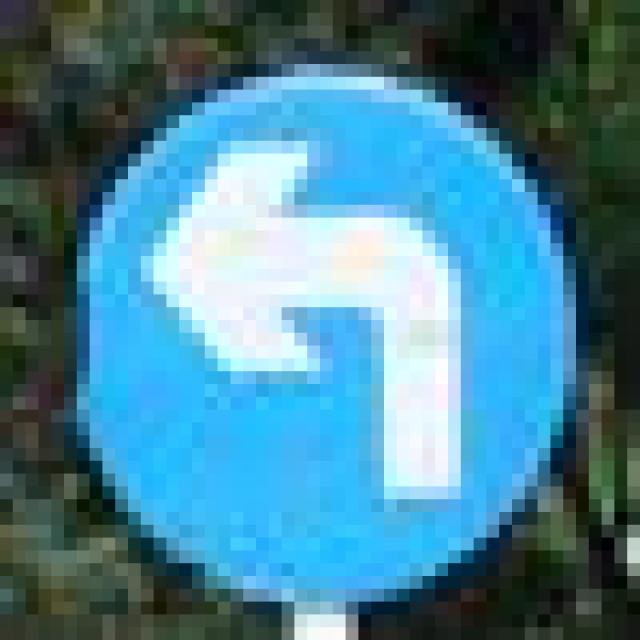compulsory_sound_horn: (52, 51, 550, 576)
